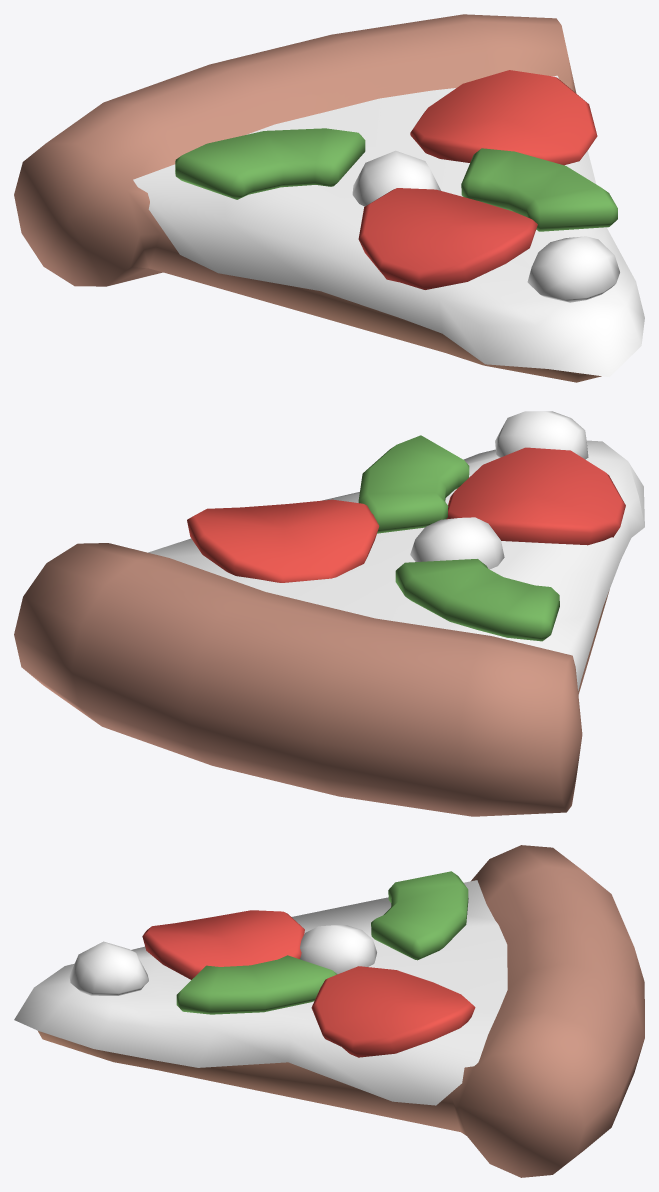
Rendered from Pizza_slice.fbx.
3 renders of one model, top to bottom at view 1: azimuth 30°, elevation 25°; view 2: azimuth 150°, elevation 25°; view 3: azimuth 270°, elevation 25°, orthographic. The views are drawn at different scales.
Parts seen in each view (by area): view 1: Pizza_Slice; view 2: Pizza_Slice; view 3: Pizza_Slice.
Part boxes in pixels (<box>): Pizza_Slice: <box>14,14,644,382</box>; Pizza_Slice: <box>14,411,644,816</box>; Pizza_Slice: <box>14,845,644,1177</box>.
Bounding box in the file's own units: 0.2253 × 0.0659 × 0.2603.
